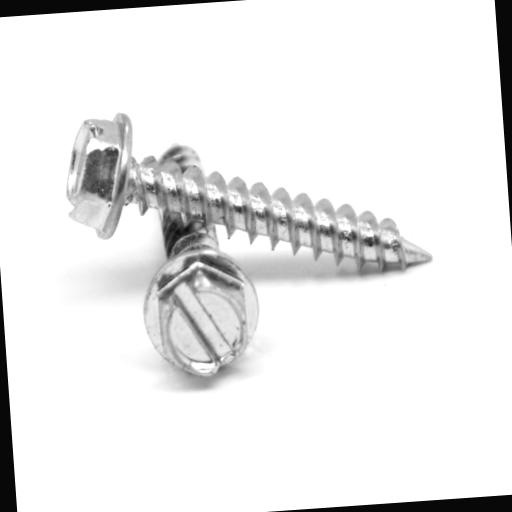Slotted: (141, 246, 264, 388)
